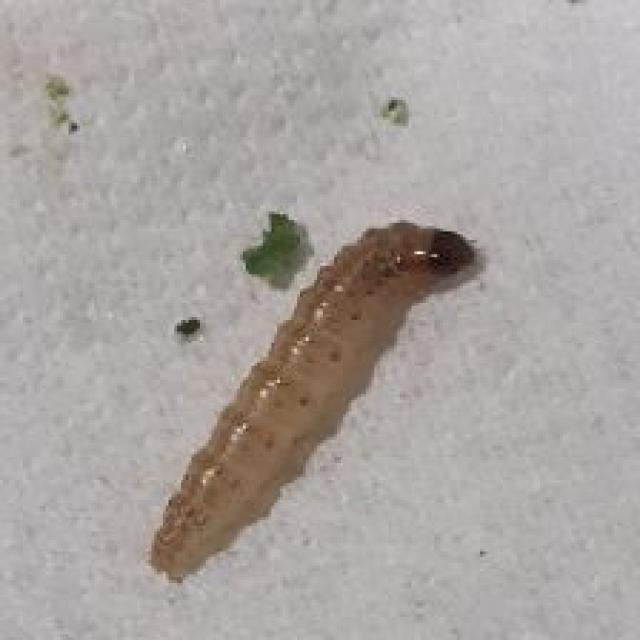white mucus: (104, 225, 515, 604)
